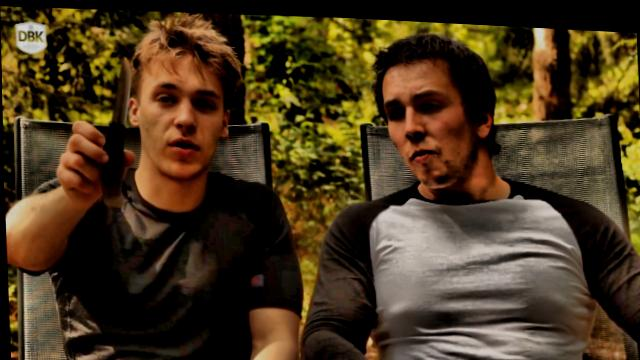knife: (83, 47, 142, 167)
